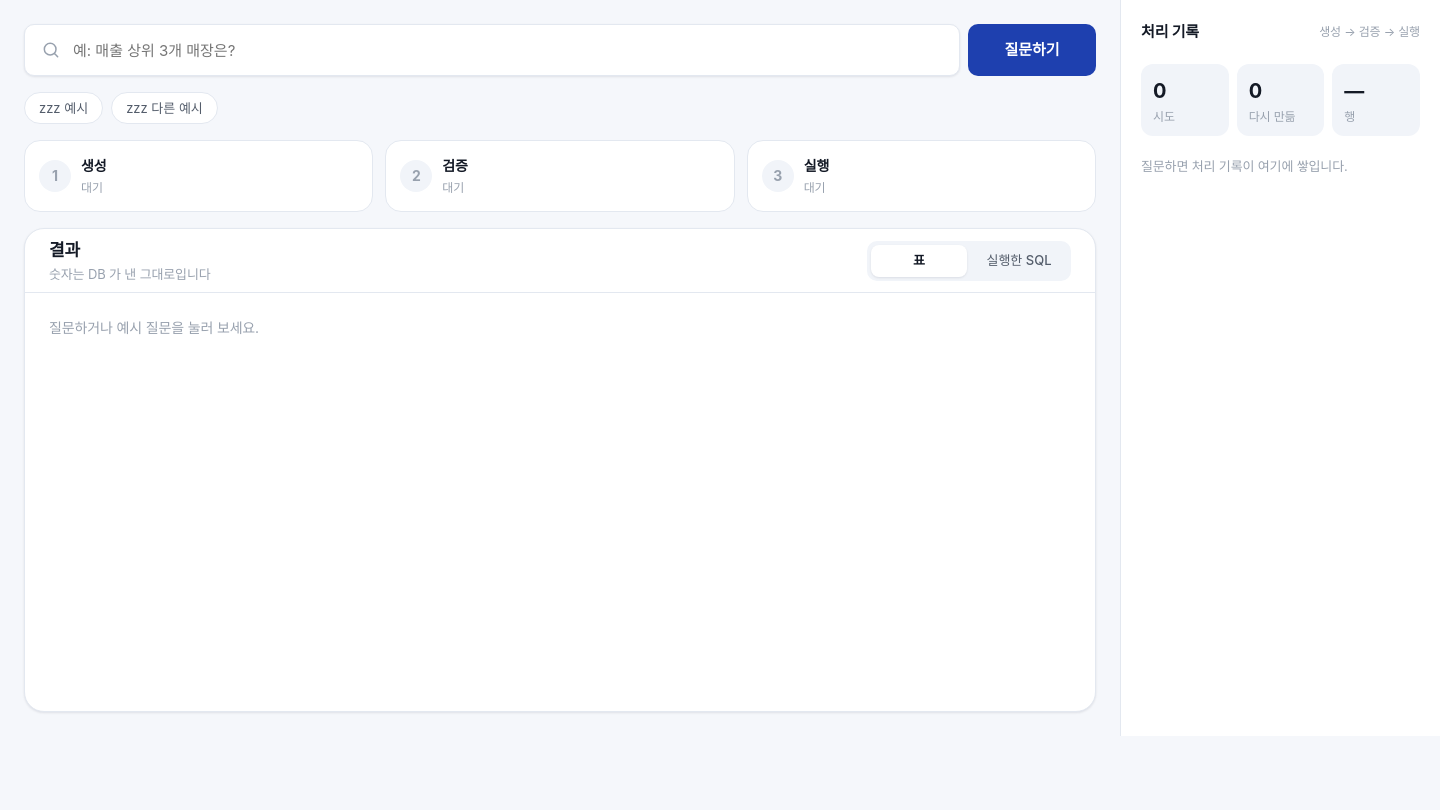
AskQuery › 검증을 통과했으면 SQL 탭이 「실행한 SQL」이고 검증된 SQL 을 보인다 (SCR-R009)
Click the button "zzz 예시" at (64, 108), box left=24, top=92, right=103, bottom=124
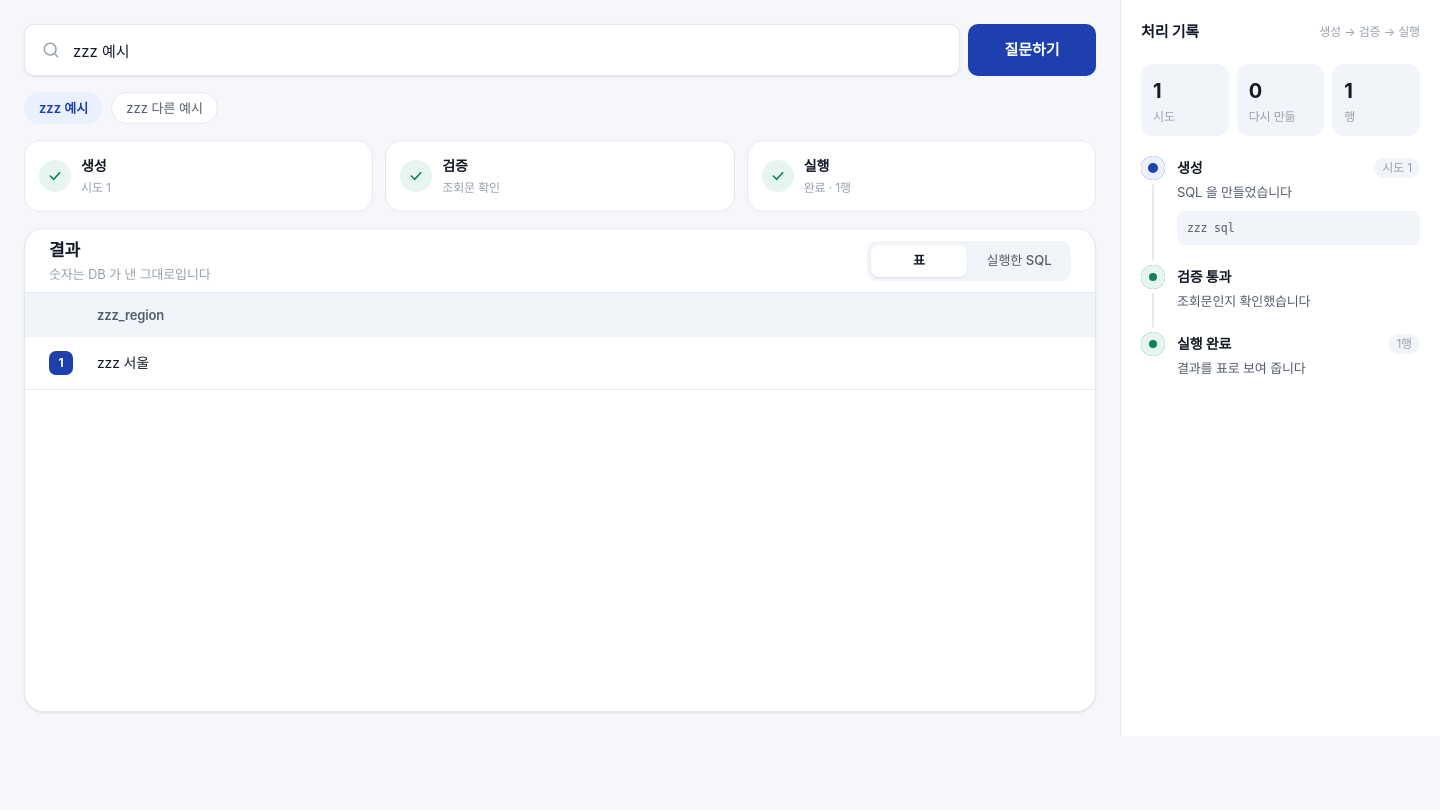
Result: the cell "zzz 서울" is shown at left=73, top=337, right=1095, bottom=389
Click the tab "실행한 SQL" at (1019, 260), box left=971, top=244, right=1067, bottom=276
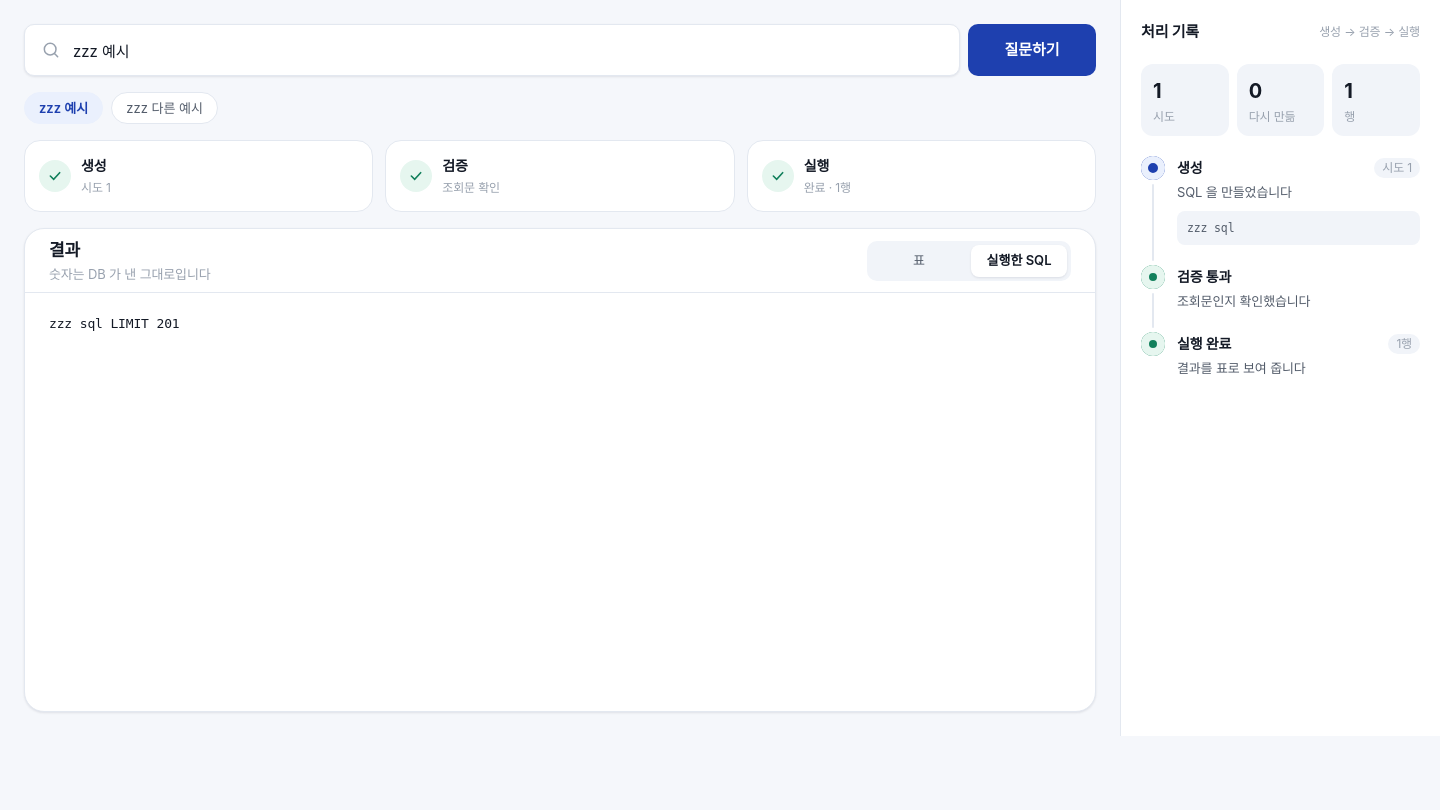
Result: the text "zzz sql LIMIT 201" is shown at left=49, top=316, right=180, bottom=331
